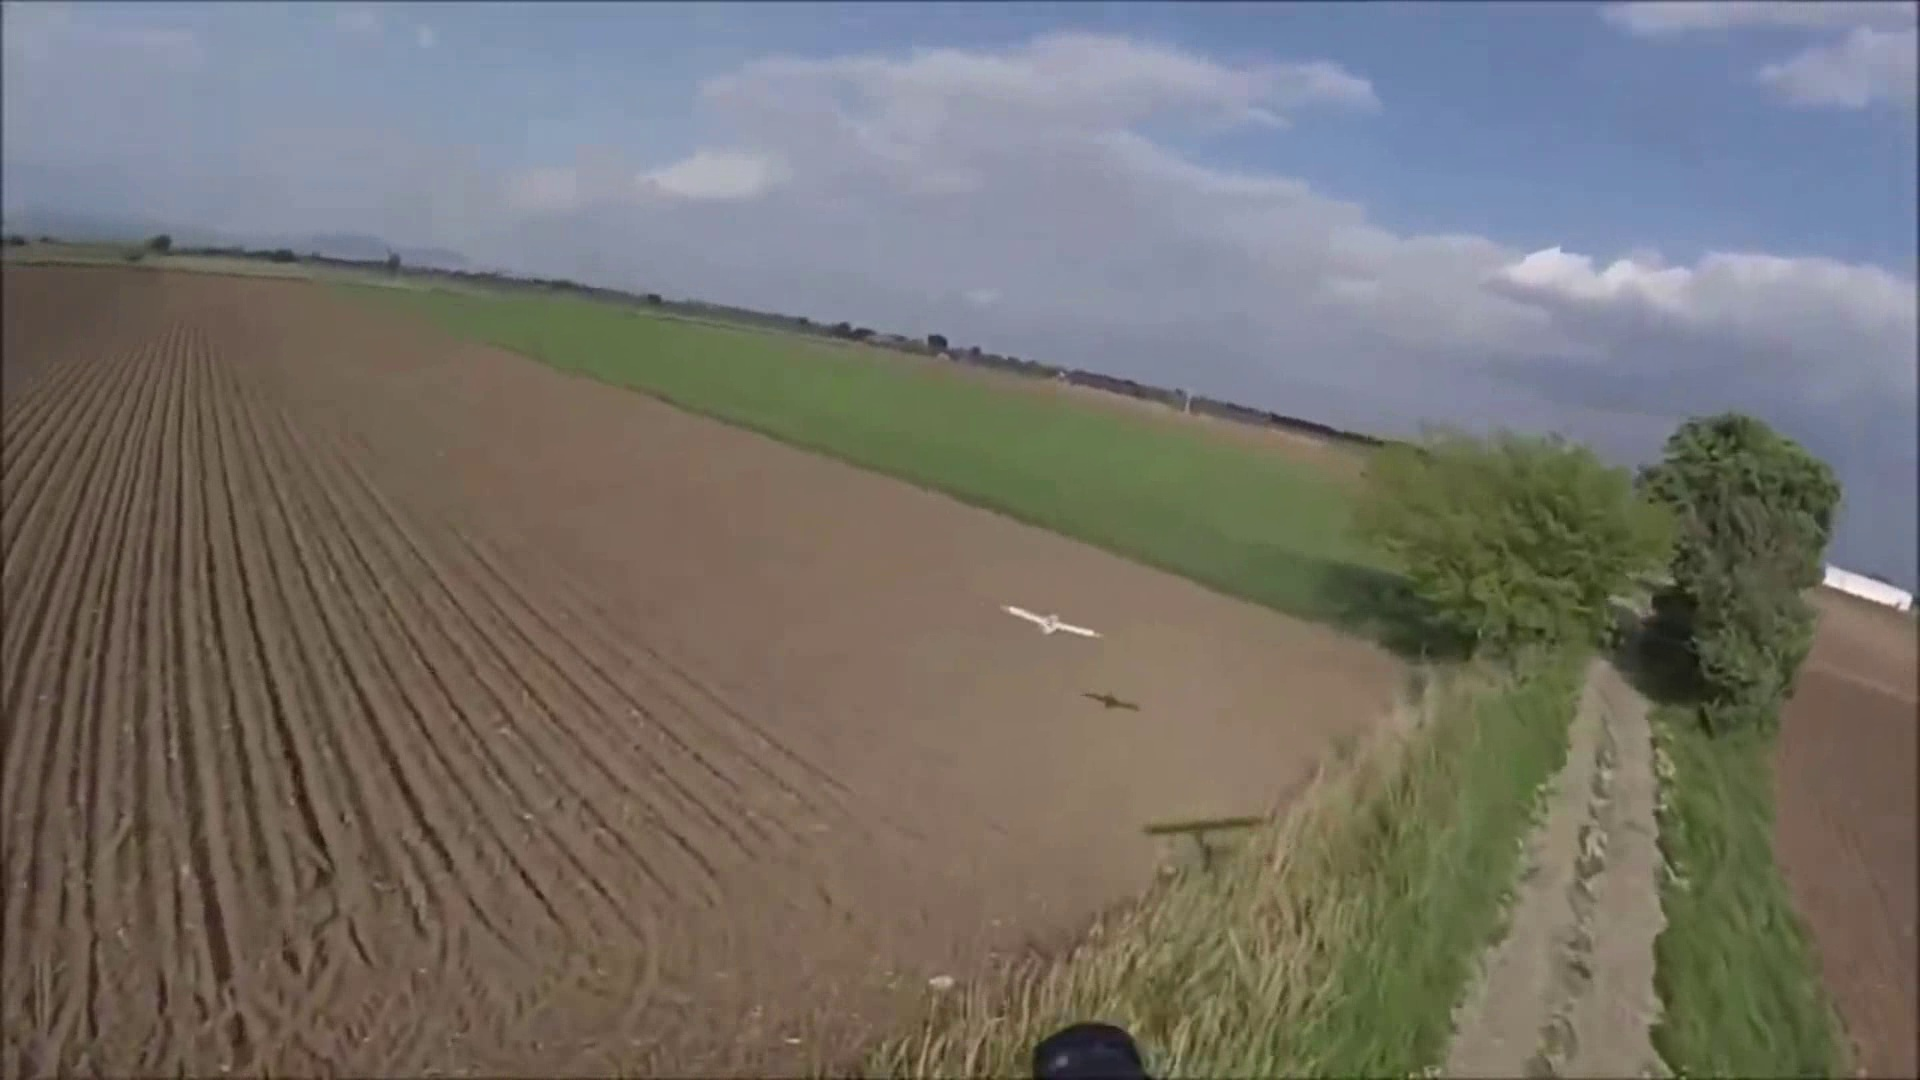airplane: (994, 601, 1101, 640)
